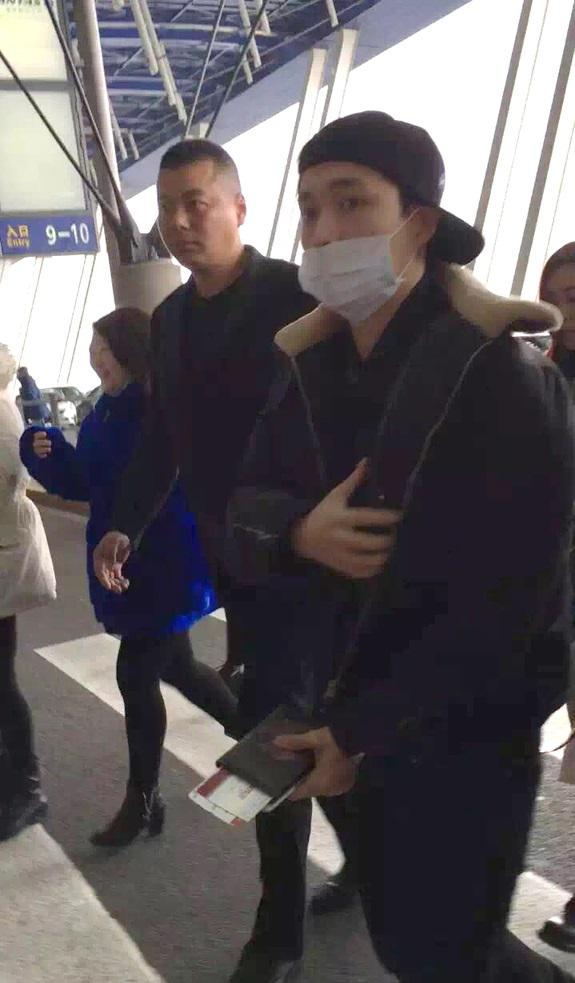NONE: (160, 169, 230, 265), (544, 268, 575, 354), (90, 331, 128, 394)
WRONG: (294, 172, 422, 300)
